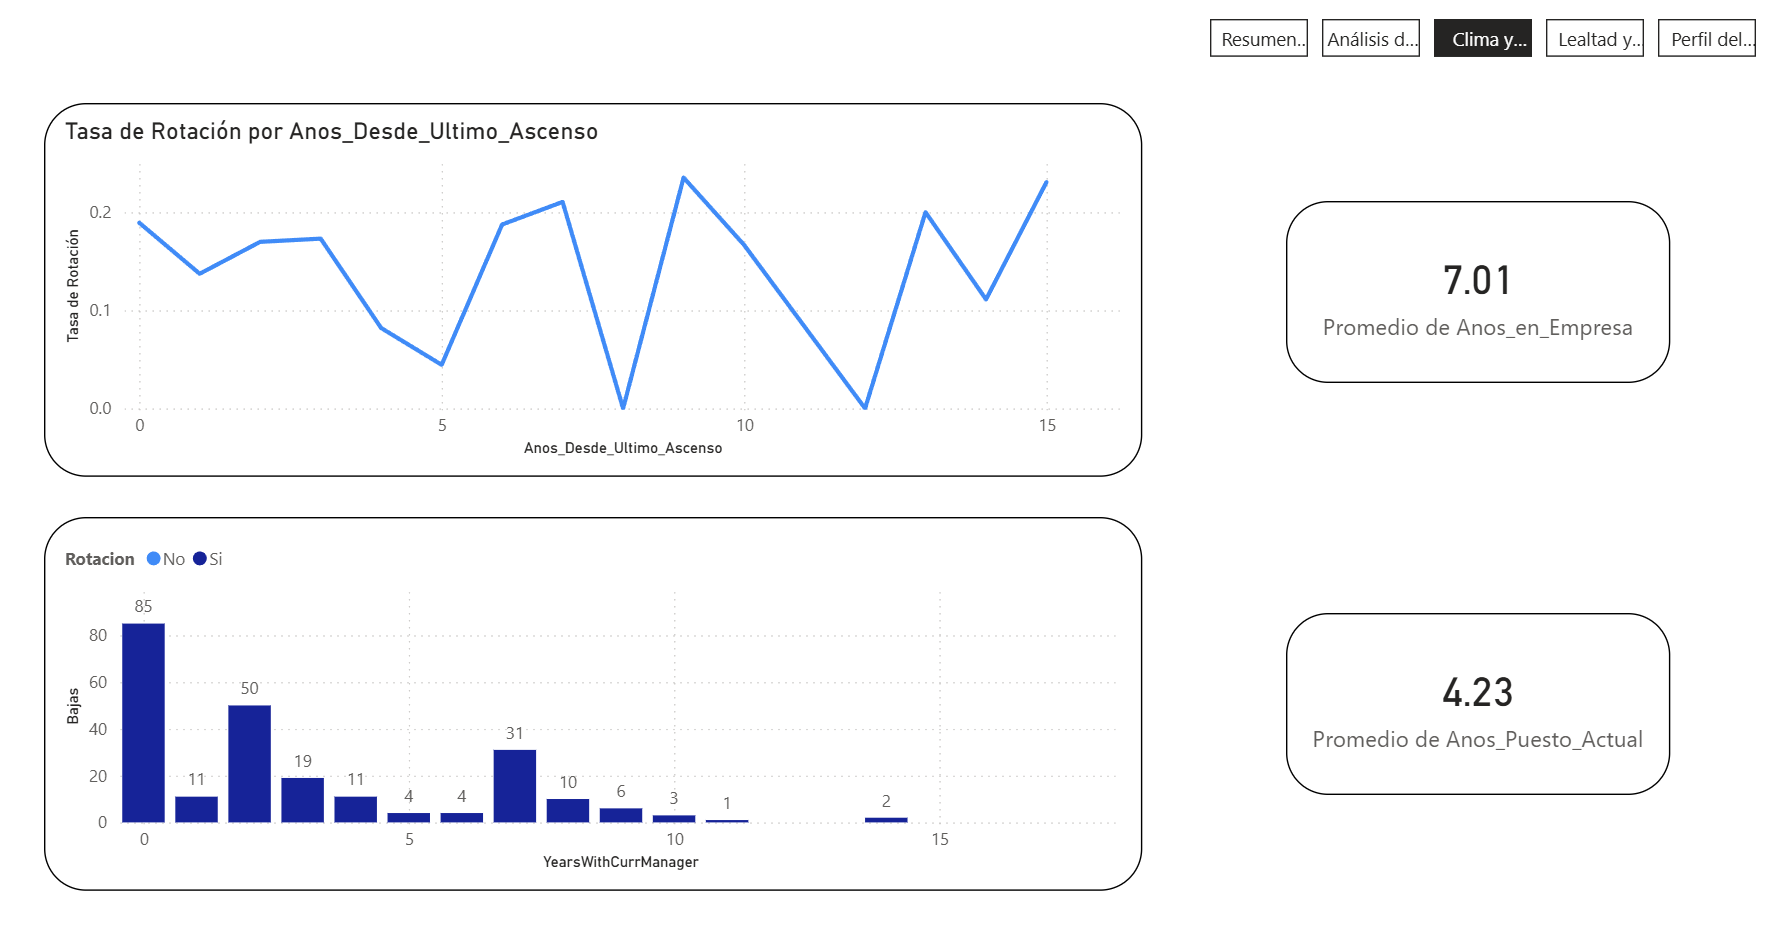

This screenshot's page, from the dashboard's own definition file:
{"tool":"powerbi","page":{"name":"Clima y Desempeño","canvas":[1280,720],"ordinal":2},"visuals":[{"type":"columnChart","fields":{"Category":["HR_Analytics_Limpio.YearsWithCurrManager"],"Y":["HR_Analytics_Limpio.Bajas"],"Series":["HR_Analytics_Limpio.Rotacion"]},"box":[35.7,370,784.3,267.1],"z":0},{"type":"lineChart","fields":{"Category":["HR_Analytics_Limpio.Anos_Desde_Ultimo_Ascenso"],"Y":["HR_Analytics_Limpio.Tasa de Rotación"]},"box":[35.7,74.3,784.3,267.1],"z":1000},{"type":"card","fields":{"Values":["Avg(HR_Analytics_Limpio.Anos_en_Empresa)"]},"box":[922.9,144.3,274.3,130],"z":2000},{"type":"card","fields":{"Values":["Avg(HR_Analytics_Limpio.Anos_Puesto_Actual)"]},"box":[922.9,438.6,274.3,130],"z":3000},{"type":"pageNavigator","box":[868.6,14.3,390,27.1],"z":4000}]}

Visuals, with their boxes on the page's 1280x720 design canvas (x1, y1, x2, y2). These are canvas units, not pixel positions in the 1778x930 screenshot, which may show the page scaled, cropped or inside an application window:
columnChart - HR_Analytics_Limpio.YearsWithCurrManager x HR_Analytics_Limpio.Bajas: [left=36, top=370, right=820, bottom=637]
lineChart - HR_Analytics_Limpio.Anos_Desde_Ultimo_Ascenso x HR_Analytics_Limpio.Tasa de Rotación: [left=36, top=74, right=820, bottom=341]
card - Avg(HR_Analytics_Limpio.Anos_en_Empresa): [left=923, top=144, right=1197, bottom=274]
card - Avg(HR_Analytics_Limpio.Anos_Puesto_Actual): [left=923, top=439, right=1197, bottom=569]
pageNavigator: [left=869, top=14, right=1259, bottom=41]
